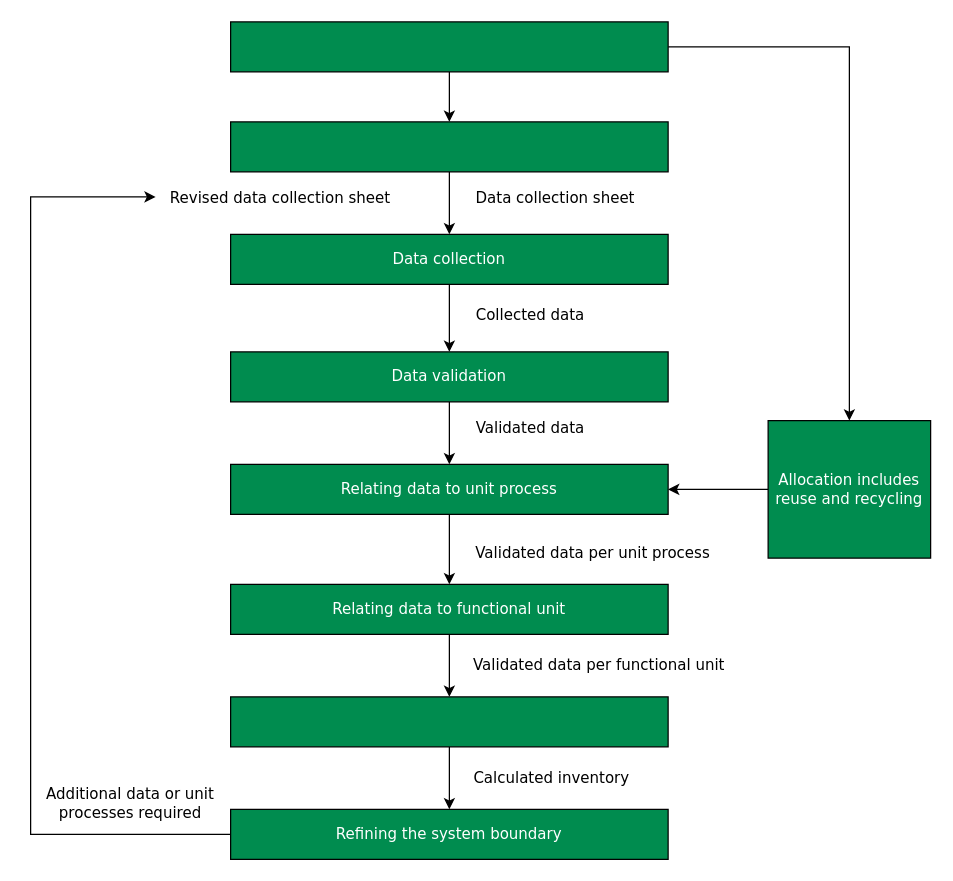
The diagram is 953 pixels wide and 881 high, and some of its shapes have lost their labels. Each missing label, with the box of its shape:
Data aggregation: (229, 696, 668, 747)
Goal and Scope definition: (229, 21, 668, 72)
Preparing for data collection: (229, 121, 668, 172)
